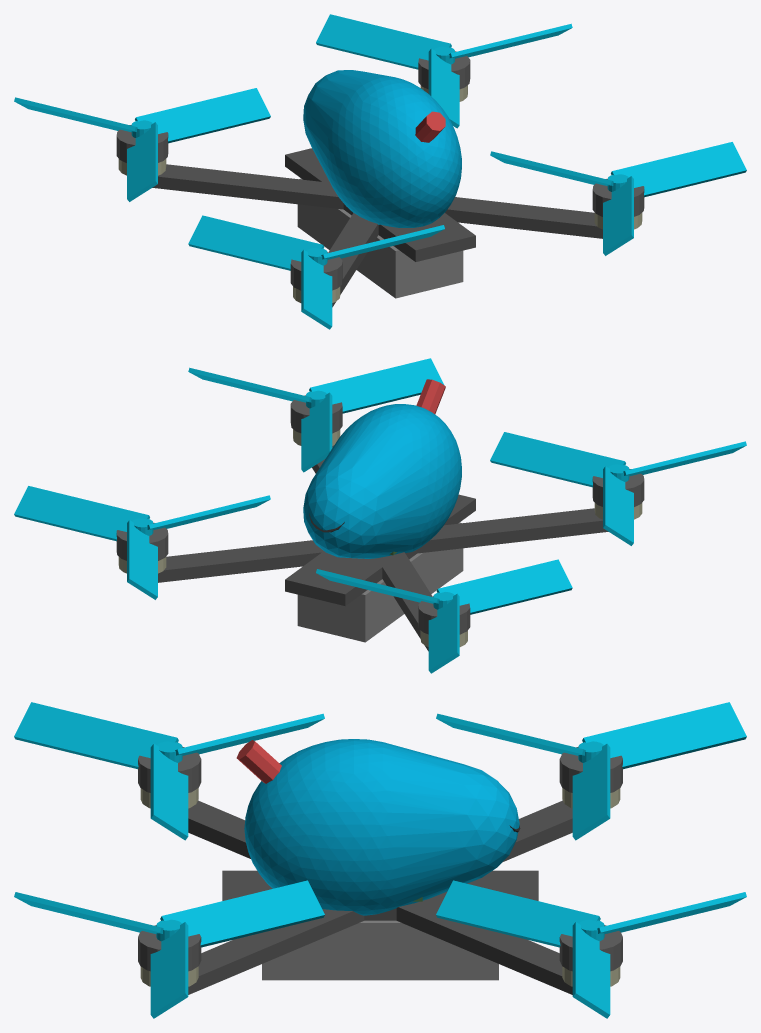
3 views of the same model, one above another, from view 1: azimuth 30°, elevation 25°; view 2: azimuth 150°, elevation 25°; view 3: azimuth 270°, elevation 25° (orthographic). The views are drawn at different scales.
Parts seen in each view (by area): view 1: mat_plastic_canopy, mat_carbon_frame, prop_mat_plastic_1, prop_mat_plastic_2, prop_mat_plastic_0, prop_mat_plastic_3, mat_batt_body, mat_metal_bell_1, mat_metal_bell_3, mat_metal_bell_0, mat_metal_bell_2, mat_plastic_antennatip; view 2: mat_plastic_canopy, mat_carbon_frame, prop_mat_plastic_2, prop_mat_plastic_1, prop_mat_plastic_3, prop_mat_plastic_0, mat_batt_body, mat_metal_bell_2, mat_metal_bell_0, mat_metal_bell_3, mat_metal_bell_1, mat_plastic_antennatip; view 3: mat_plastic_canopy, mat_carbon_frame, prop_mat_plastic_0, prop_mat_plastic_3, prop_mat_plastic_2, prop_mat_plastic_1, mat_batt_body, mat_metal_bell_0, mat_metal_bell_1, mat_metal_bell_2, mat_metal_bell_3, mat_plastic_antennatip.
Part boxes in pixels (x1,y1,x2,y2): mat_plastic_canopy: (303, 70, 461, 227); mat_carbon_frame: (152, 148, 602, 307); prop_mat_plastic_1: (188, 215, 444, 329); prop_mat_plastic_2: (14, 88, 270, 201); prop_mat_plastic_0: (490, 142, 746, 255); prop_mat_plastic_3: (316, 14, 572, 128); mat_batt_body: (297, 178, 463, 298); mat_metal_bell_1: (290, 252, 342, 290); mat_metal_bell_3: (418, 51, 470, 89); mat_metal_bell_0: (592, 178, 644, 216); mat_metal_bell_2: (116, 125, 168, 162); mat_plastic_antennatip: (415, 111, 445, 142); mat_plastic_canopy: (303, 404, 461, 558); mat_carbon_frame: (158, 445, 608, 651); prop_mat_plastic_2: (316, 559, 572, 673); prop_mat_plastic_1: (490, 432, 746, 545); prop_mat_plastic_3: (14, 486, 270, 599); prop_mat_plastic_0: (188, 358, 443, 472); mat_batt_body: (297, 522, 463, 642); mat_metal_bell_2: (418, 596, 470, 634); mat_metal_bell_0: (290, 395, 342, 433); mat_metal_bell_3: (116, 522, 168, 560); mat_metal_bell_1: (592, 469, 644, 506); mat_plastic_antennatip: (416, 379, 445, 414); mat_plastic_canopy: (244, 739, 519, 915); mat_carbon_frame: (188, 800, 572, 994); prop_mat_plastic_0: (14, 880, 324, 1018); prop_mat_plastic_3: (436, 880, 746, 1018); prop_mat_plastic_2: (436, 702, 746, 840); prop_mat_plastic_1: (14, 702, 324, 840); mat_batt_body: (262, 920, 498, 980); mat_metal_bell_0: (138, 925, 201, 971); mat_metal_bell_1: (138, 747, 201, 792); mat_metal_bell_2: (559, 747, 622, 792); mat_metal_bell_3: (559, 925, 622, 971); mat_plastic_antennatip: (236, 740, 281, 783).
Bounding box in the file's own units: 0.1311 × 0.0458 × 0.139.
